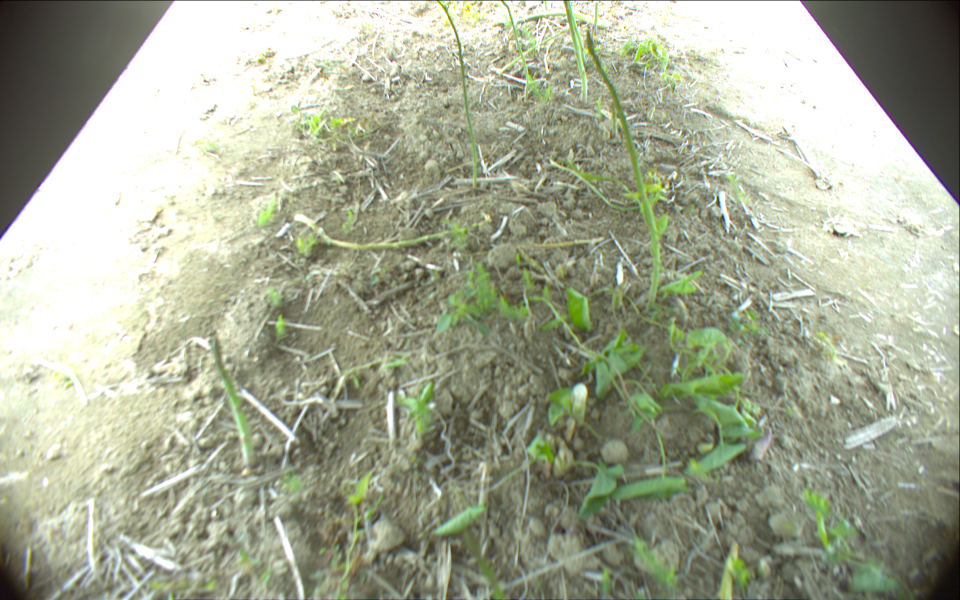aspa: (584, 26, 661, 307), (434, 1, 479, 192), (294, 211, 491, 248), (210, 337, 257, 466), (497, 26, 571, 75), (561, 1, 591, 103), (499, 1, 534, 82), (518, 11, 609, 30), (593, 1, 599, 29)
